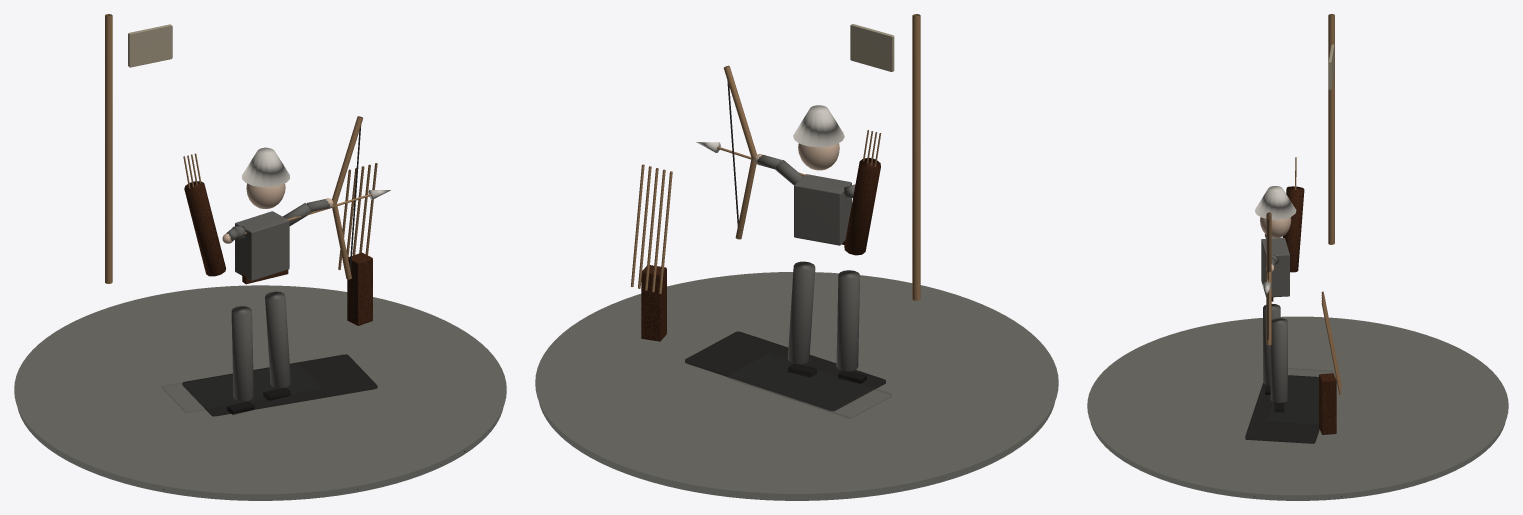
Rendered from archer_troop.glb.
3 views of the same model, side by side, from view 1: azimuth 30°, elevation 25°; view 2: azimuth 150°, elevation 25°; view 3: azimuth 270°, elevation 25° (orthographic). The views are drawn at different scales.
Visible parts, largest first — view 1: archer_thin_bronze_ring, archer_shadow, archer_stone_dais, archer_marksman_turned_torso, archer_banner_pole, archer_marksman_quiver, archer_marksman_right_leg, archer_marksman_left_leg, archer_arrow_rack, archer_banner_flag, archer_marksman_helmet, archer_marksman_plain_head (+2 smaller); view 2: archer_thin_bronze_ring, archer_shadow, archer_stone_dais, archer_marksman_turned_torso, archer_banner_pole, archer_marksman_right_leg, archer_marksman_left_leg, archer_marksman_quiver, archer_arrow_rack, archer_banner_flag, archer_marksman_helmet, archer_warm_ground (+2 smaller); view 3: archer_thin_bronze_ring, archer_shadow, archer_stone_dais, archer_marksman_right_leg, archer_banner_pole, archer_marksman_turned_torso, archer_arrow_rack, archer_marksman_quiver, archer_marksman_helmet, archer_marksman_left_leg.
Part boxes in pixels (box(x1,y1,x2,y2)): archer_thin_bronze_ring: box(14, 285, 506, 494); archer_shadow: box(182, 354, 377, 416); archer_stone_dais: box(17, 408, 503, 500); archer_marksman_turned_torso: box(235, 211, 289, 280); archer_banner_pole: box(105, 14, 112, 283); archer_marksman_quiver: box(184, 181, 225, 276); archer_marksman_right_leg: box(265, 291, 290, 388); archer_marksman_left_leg: box(231, 306, 253, 401); archer_arrow_rack: box(347, 252, 372, 325); archer_banner_flag: box(128, 24, 172, 67); archer_marksman_helmet: box(242, 147, 289, 187); archer_marksman_plain_head: box(246, 183, 285, 208); archer_thin_bronze_ring: box(535, 272, 1058, 493); archer_shadow: box(685, 331, 885, 411); archer_stone_dais: box(539, 402, 1054, 500); archer_marksman_turned_torso: box(794, 174, 851, 245); archer_banner_pole: box(912, 14, 920, 300); archer_marksman_right_leg: box(787, 261, 815, 364); archer_marksman_left_leg: box(836, 270, 860, 371); archer_marksman_quiver: box(844, 158, 880, 255); archer_arrow_rack: box(641, 265, 666, 341); archer_banner_flag: box(850, 24, 894, 71); archer_marksman_helmet: box(793, 105, 844, 147); archer_warm_ground: box(727, 354, 891, 418); archer_thin_bronze_ring: box(1087, 316, 1508, 495); archer_shadow: box(1245, 375, 1319, 443); archer_stone_dais: box(1090, 422, 1505, 500); archer_marksman_right_leg: box(1270, 318, 1287, 402); archer_banner_pole: box(1328, 14, 1334, 244); archer_marksman_turned_torso: box(1261, 238, 1289, 297); archer_arrow_rack: box(1319, 373, 1336, 434); archer_marksman_quiver: box(1282, 186, 1304, 272); archer_marksman_helmet: box(1255, 186, 1296, 219); archer_marksman_left_leg: box(1263, 304, 1280, 385).
Size of the model in its own units: 2.26 by 2.03 by 2.26.
Materials: 11 (1 with a texture image).
